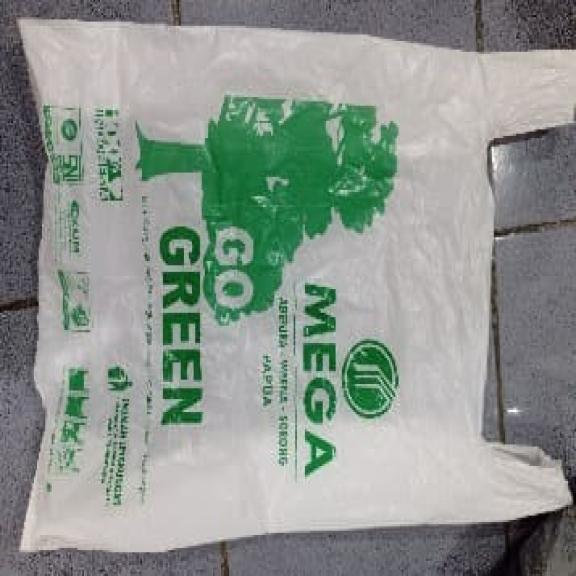Plastik: (17, 15, 570, 555)
